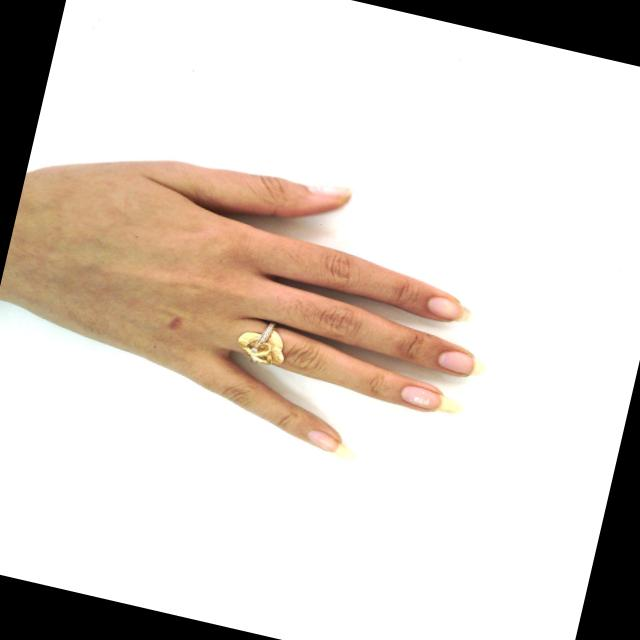Nail: (400, 384, 462, 413), (307, 429, 355, 460), (427, 295, 471, 320), (438, 349, 474, 373), (306, 183, 352, 195)
